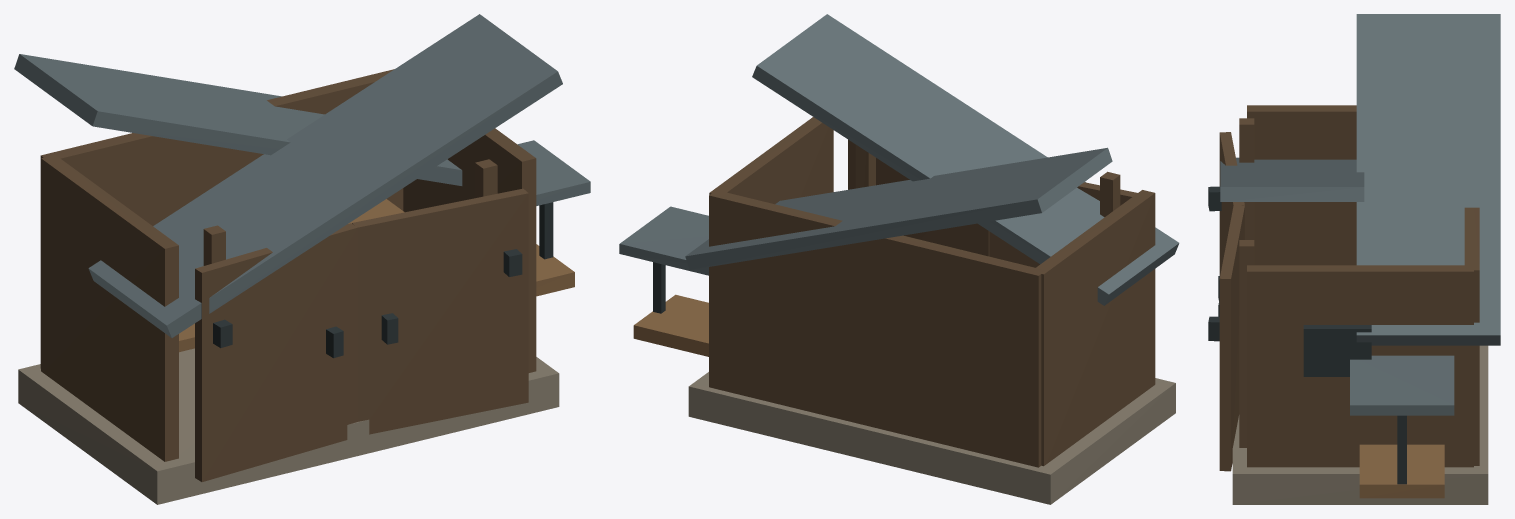
File: storage-shed.source.glb
3 renders of one model, left to right at view 1: azimuth 30°, elevation 25°; view 2: azimuth 150°, elevation 25°; view 3: azimuth 270°, elevation 25°, orthographic. The views are drawn at different scales.
Parts seen in each view (by area): view 1: storage-shed-double-door-panel-mesh (×2), storage-shed-pitched-roof-mesh (×2), storage-shed-side-wall-mesh (×2), storage-shed-stone-curb-mesh, storage-shed-rear-wall-mesh, storage-shed-side-rack-cover-mesh, storage-shed-front-post-mesh (×2), storage-shed-side-rack-shelf-mesh, storage-shed-side-rack-leg-mesh; view 2: storage-shed-rear-wall-mesh, storage-shed-pitched-roof-mesh (×2), storage-shed-side-wall-mesh (×2), storage-shed-stone-curb-mesh, storage-shed-side-rack-cover-mesh, storage-shed-double-door-panel-mesh (×2), storage-shed-side-rack-shelf-mesh, storage-shed-front-post-mesh (×2), storage-shed-side-rack-leg-mesh; view 3: storage-shed-pitched-roof-mesh (×2), storage-shed-side-wall-mesh (×2), storage-shed-stone-curb-mesh, storage-shed-side-rack-cover-mesh, storage-shed-double-door-panel-mesh (×2), storage-shed-side-rack-shelf-mesh, storage-shed-side-vent-mesh, storage-shed-front-post-mesh (×2), storage-shed-rear-wall-mesh, storage-shed-side-rack-leg-mesh, storage-shed-iron-hinge-mesh.
Part boxes in pixels (left/top/right/bottom): storage-shed-double-door-panel-mesh (×2): left=195, top=188, right=528, bottom=481; storage-shed-pitched-roof-mesh (×2): left=14, top=14, right=562, bottom=337; storage-shed-side-wall-mesh (×2): left=41, top=128, right=536, bottom=461; storage-shed-stone-curb-mesh: left=18, top=348, right=559, bottom=504; storage-shed-rear-wall-mesh: left=40, top=69, right=403, bottom=368; storage-shed-side-rack-cover-mesh: left=517, top=140, right=590, bottom=205; storage-shed-front-post-mesh (×2): left=203, top=159, right=497, bottom=265; storage-shed-side-rack-shelf-mesh: left=536, top=244, right=574, bottom=296; storage-shed-side-rack-leg-mesh: left=539, top=202, right=553, bottom=259; storage-shed-rear-wall-mesh: left=709, top=190, right=1045, bottom=467; storage-shed-pitched-roof-mesh (×2): left=685, top=14, right=1179, bottom=305; storage-shed-side-wall-mesh (×2): left=709, top=117, right=1155, bottom=466; storage-shed-stone-curb-mesh: left=688, top=372, right=1175, bottom=504; storage-shed-side-rack-cover-mesh: left=619, top=206, right=708, bottom=275; storage-shed-double-door-panel-mesh (×2): left=848, top=139, right=1137, bottom=267; storage-shed-side-rack-shelf-mesh: left=633, top=294, right=708, bottom=356; storage-shed-front-post-mesh (×2): left=855, top=145, right=1120, bottom=217; storage-shed-side-rack-leg-mesh: left=653, top=262, right=665, bottom=313; storage-shed-pitched-roof-mesh (×2): left=1220, top=14, right=1500, bottom=345; storage-shed-side-wall-mesh (×2): left=1247, top=105, right=1473, bottom=467; storage-shed-stone-curb-mesh: left=1232, top=345, right=1488, bottom=504; storage-shed-side-rack-cover-mesh: left=1350, top=355, right=1454, bottom=415; storage-shed-double-door-panel-mesh (×2): left=1219, top=132, right=1244, bottom=471; storage-shed-side-rack-shelf-mesh: left=1359, top=444, right=1444, bottom=498; storage-shed-side-vent-mesh: left=1303, top=325, right=1371, bottom=376; storage-shed-front-post-mesh (×2): left=1239, top=118, right=1254, bottom=447; storage-shed-rear-wall-mesh: left=1464, top=207, right=1479, bottom=465; storage-shed-side-rack-leg-mesh: left=1397, top=415, right=1406, bottom=484; storage-shed-iron-hinge-mesh: left=1208, top=186, right=1221, bottom=211.
Size of the model in its own units: 2.79 by 1.83 by 1.54.
